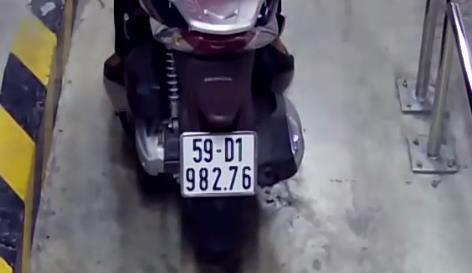lisence: (178, 130, 258, 198)
